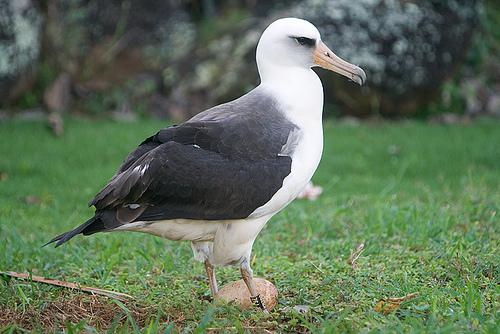002.Laysan_Albatross: (42, 16, 365, 312)
